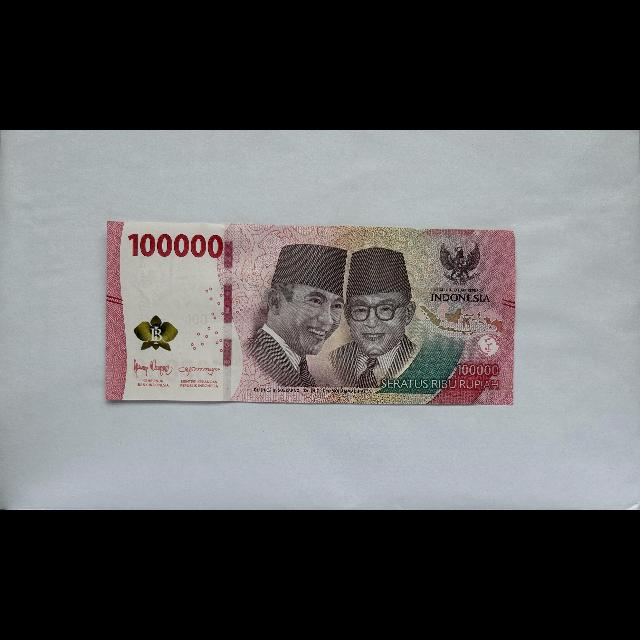Asli-100k: (104, 219, 518, 409)
Tinta-Asli-100k: (133, 314, 179, 352)
